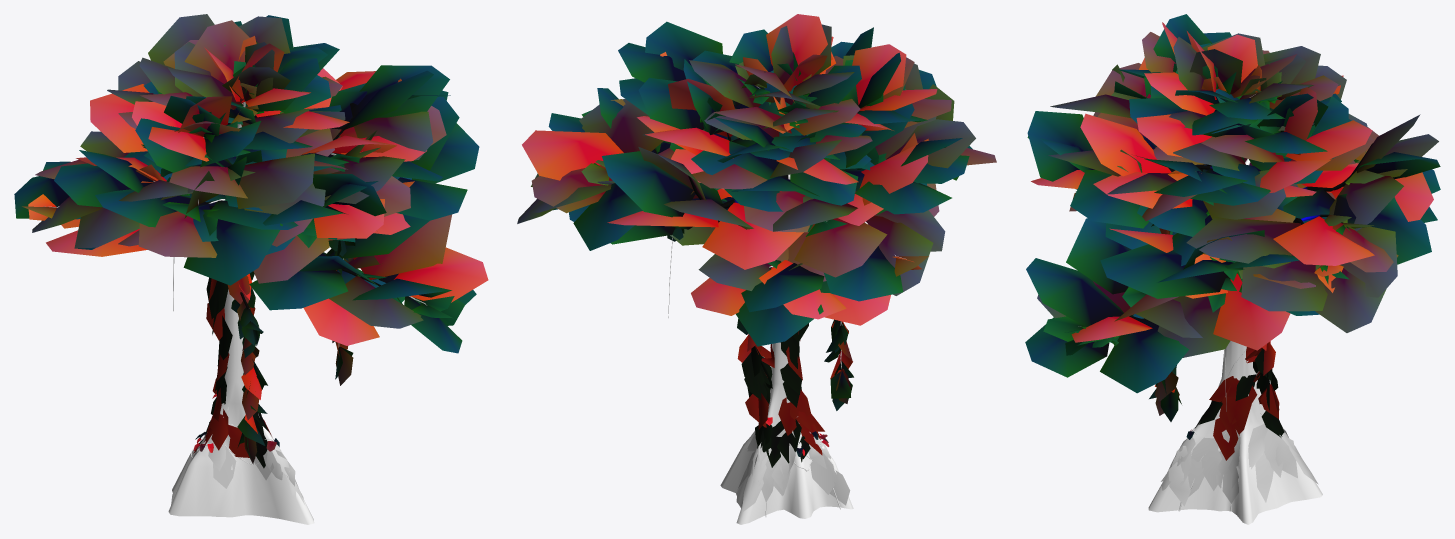
The model's file is KapokTree01_afsTREE_xlprl05_xef40_xmvcb_xlod00.fbx.
The picture shows the model from 3 angles, left to right: view 1: azimuth 30°, elevation 25°; view 2: azimuth 150°, elevation 25°; view 3: azimuth 270°, elevation 25°; orthographic projection.
Visible parts, largest first — view 1: trunk_xw03, leaf01.032, leaf01.153, leaf01.104, leaf01.033, leaf01.095, leaf01.120_xt20, leaf01.031, leaf01.092_xt20, leaf01.137, leaf01.055, leaf01.116 (+54 smaller); view 2: trunk_xw03, leaf01.069, leaf01.132, leaf01.015, leaf01.021_xt20, leaf01.076, leaf01.005_xt20, leaf01.004, leaf01.130_xt20, leaf01.008, leaf01.002, leaf01.121 (+54 smaller); view 3: trunk_xw03, leaf01.113, leaf01.094, leaf01.099, leaf01.130_xt20, leaf01.234, leaf01.117, leaf01.243, leaf01.108, leaf01.132, leaf01.236, leaf01.037 (+69 smaller).
Part boxes in pixels (<box>): trunk_xw03: <box>168,101,314,524</box>; leaf01.032: <box>183,206,282,285</box>; leaf01.153: <box>236,153,314,208</box>; leaf01.104: <box>353,214,452,279</box>; leaf01.033: <box>249,270,347,310</box>; leaf01.095: <box>394,247,488,302</box>; leaf01.120_xt20: <box>350,65,449,117</box>; leaf01.031: <box>138,211,217,257</box>; leaf01.092_xt20: <box>329,276,423,328</box>; leaf01.137: <box>184,20,249,103</box>; leaf01.055: <box>90,84,149,152</box>; leaf01.116: <box>354,111,433,160</box>; trunk_xw03: <box>720,174,853,524</box>; leaf01.069: <box>602,151,695,217</box>; leaf01.132: <box>522,130,623,180</box>; leaf01.015: <box>794,218,887,277</box>; leaf01.021_xt20: <box>702,202,803,269</box>; leaf01.076: <box>573,183,642,250</box>; leaf01.005_xt20: <box>824,246,903,301</box>; leaf01.004: <box>741,263,824,312</box>; leaf01.130_xt20: <box>579,99,663,152</box>; leaf01.008: <box>864,215,933,295</box>; leaf01.002: <box>736,302,823,346</box>; leaf01.121: <box>642,21,722,81</box>; trunk_xw03: <box>1148,341,1322,524</box>; leaf01.113: <box>1100,244,1226,298</box>; leaf01.094: <box>1100,316,1188,393</box>; leaf01.099: <box>1026,258,1123,326</box>; leaf01.130_xt20: <box>1186,217,1300,268</box>; leaf01.234: <box>1241,254,1327,311</box>; leaf01.117: <box>1080,113,1171,176</box>; leaf01.243: <box>1213,273,1290,350</box>; leaf01.108: <box>1027,111,1092,189</box>; leaf01.132: <box>1273,216,1374,265</box>; leaf01.236: <box>1315,265,1386,332</box>; leaf01.037: <box>1066,218,1131,294</box>.
Size of what is drawn, in the model's own units: 51.01 by 45.84 by 56.31.
